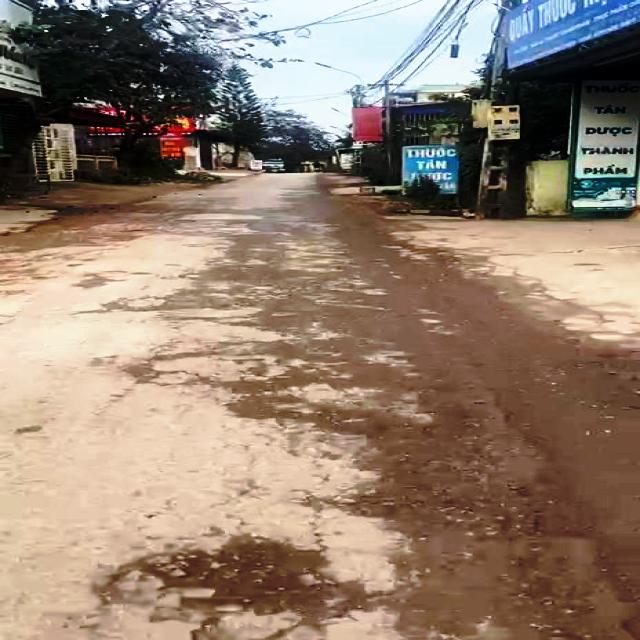pothole: (111, 538, 336, 625)
